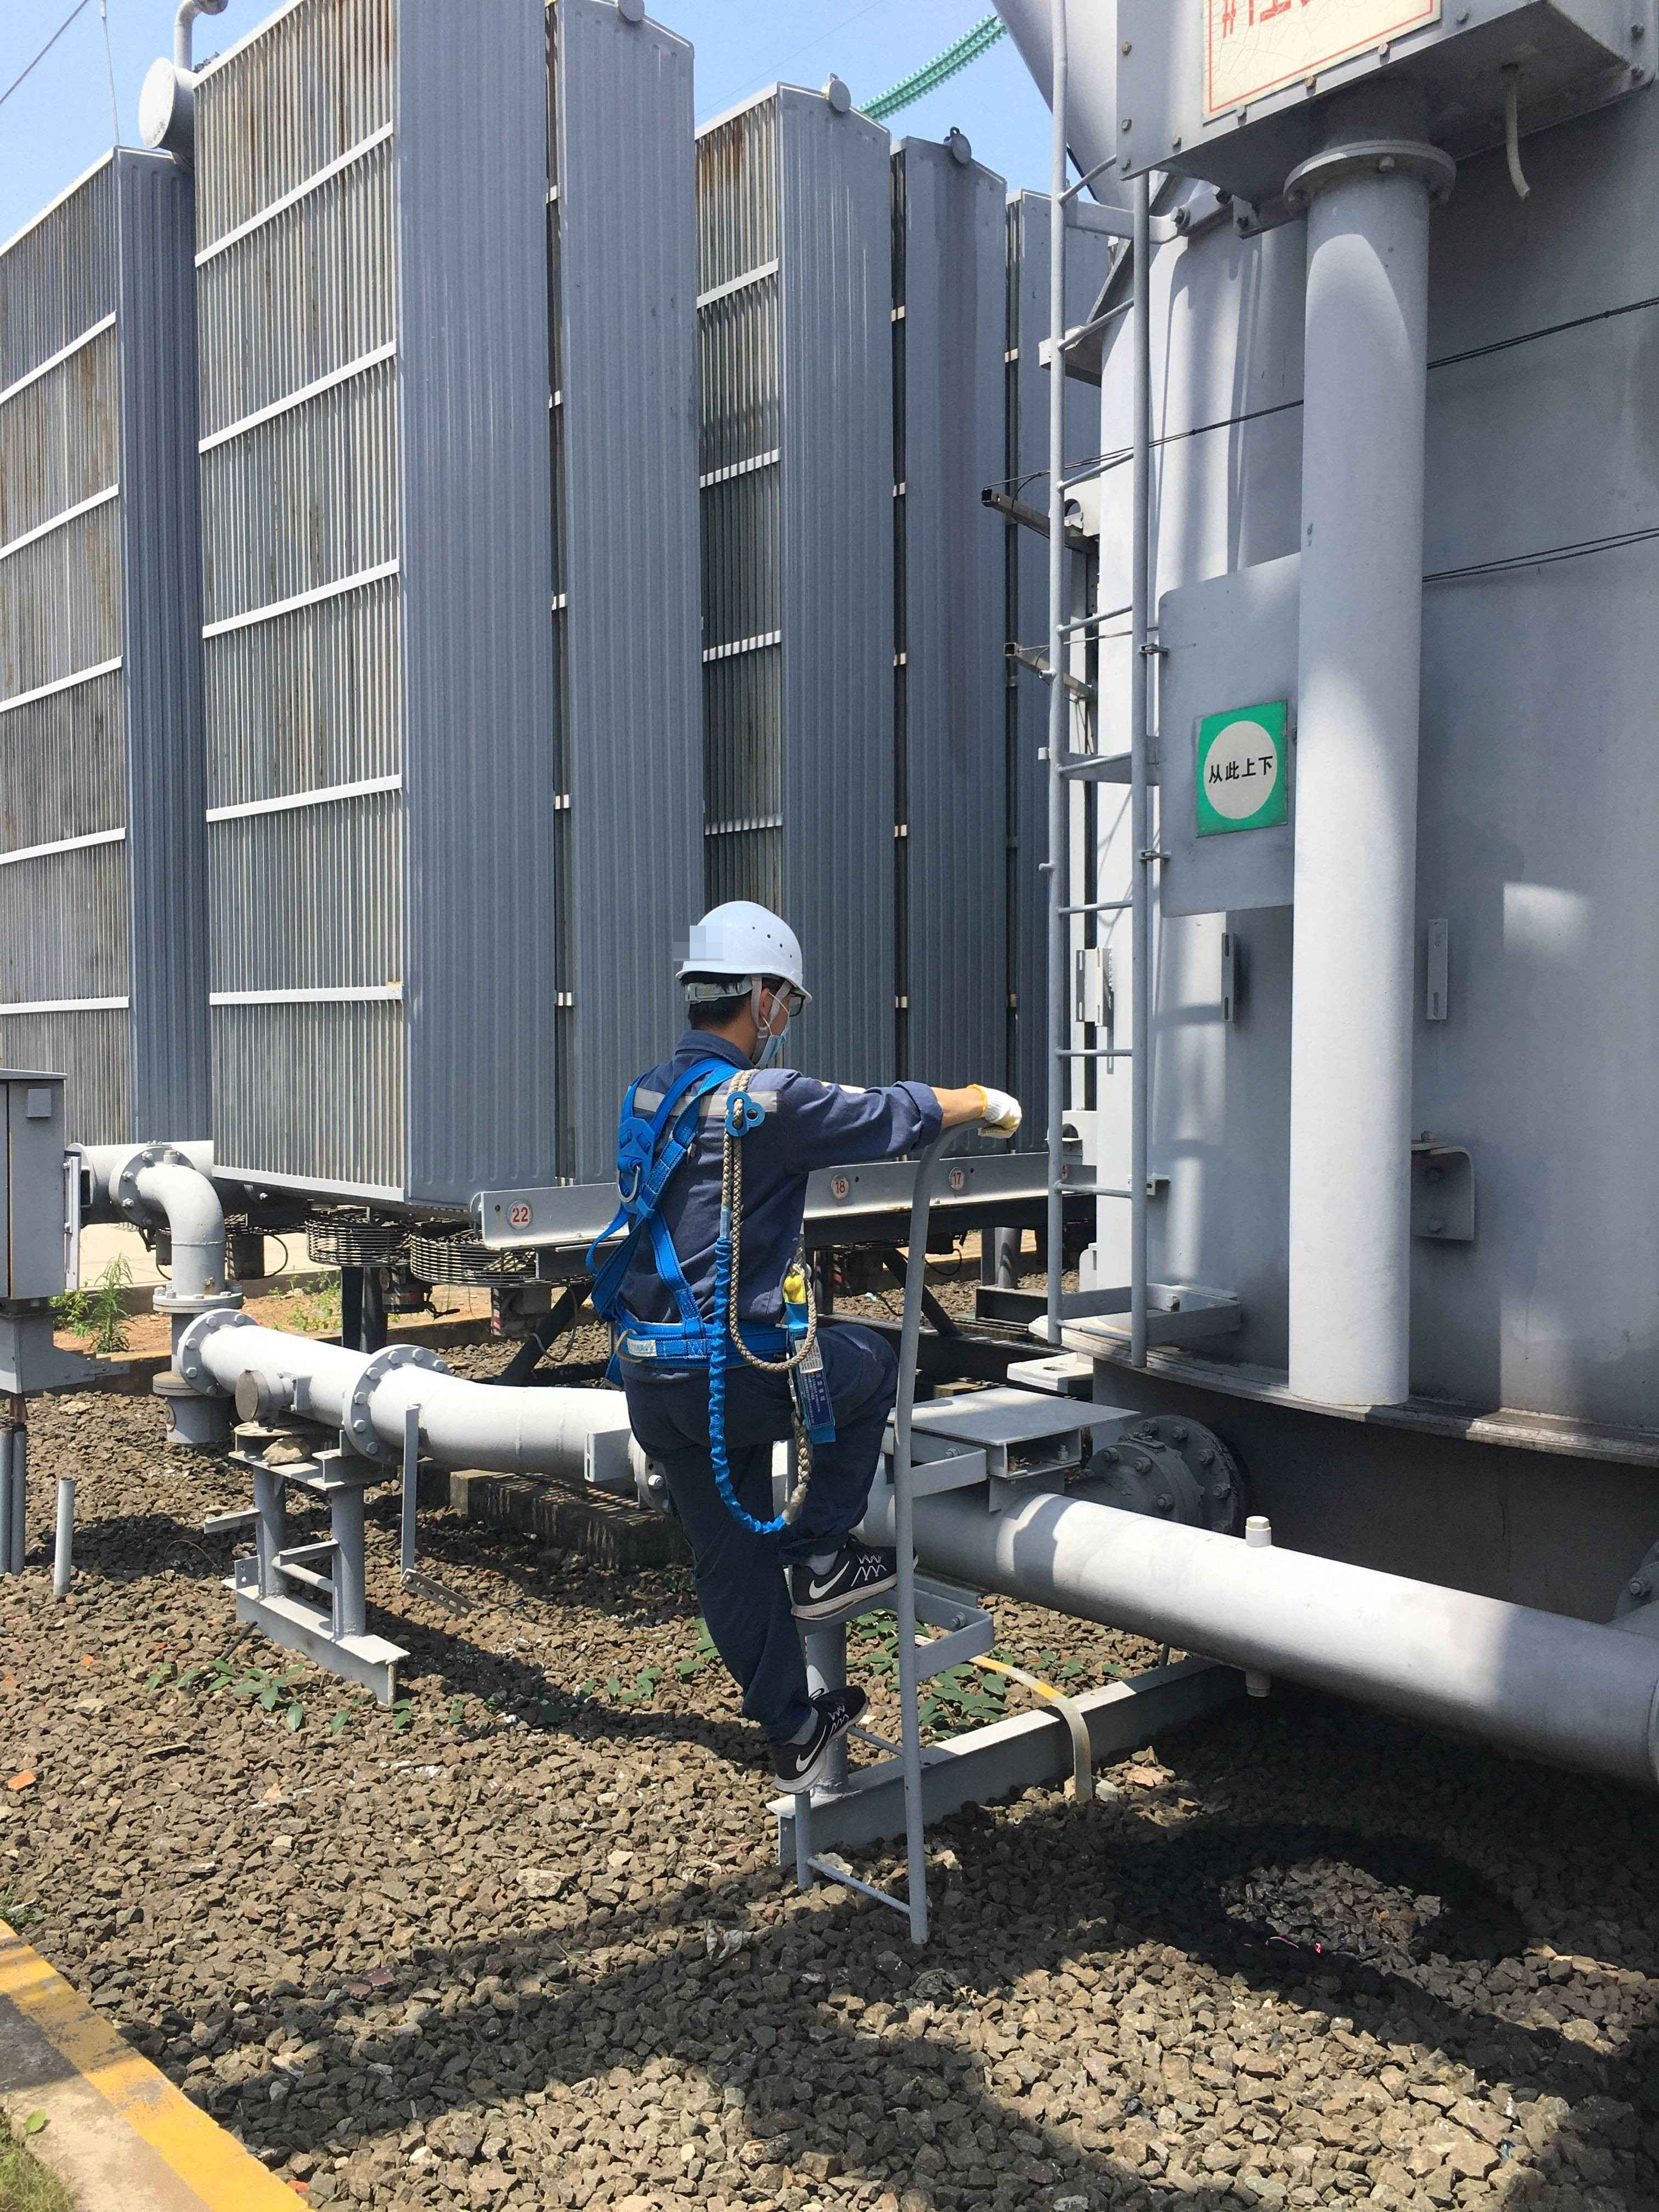downsuit: (617, 1339, 901, 1733)
upsuit: (598, 1049, 945, 1315)
wrongtop: (901, 1066, 999, 1143)
